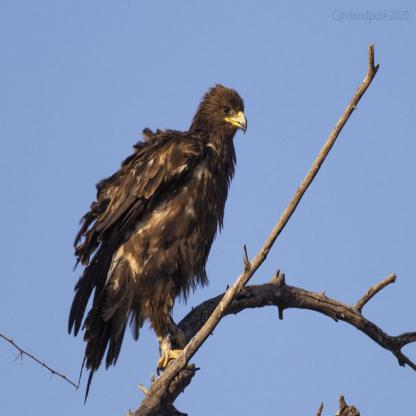Burung: (67, 84, 251, 400)
